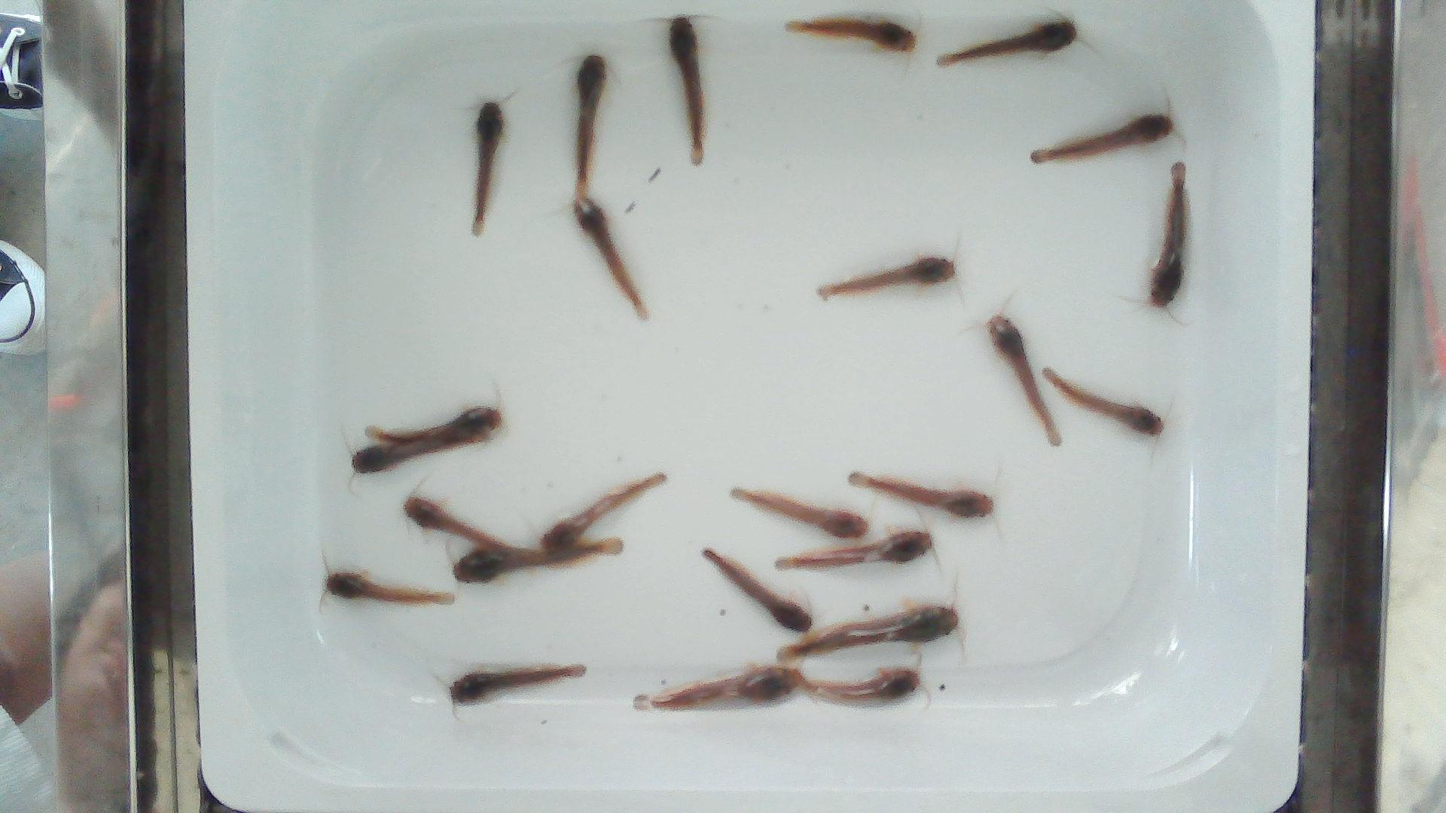lele: (987, 314, 1062, 446), (541, 473, 666, 552), (779, 605, 958, 658), (573, 198, 648, 320), (703, 548, 811, 632), (1042, 368, 1164, 437), (635, 665, 810, 710), (453, 538, 621, 583), (1030, 115, 1172, 163), (849, 472, 994, 518), (732, 489, 868, 538), (403, 497, 518, 553), (819, 256, 956, 299), (351, 433, 490, 474), (1149, 162, 1188, 307), (776, 534, 935, 569), (669, 17, 706, 166), (956, 17, 1078, 60), (449, 665, 586, 703), (786, 16, 918, 53), (368, 407, 504, 442), (324, 570, 455, 606), (471, 99, 505, 236), (576, 55, 606, 196), (803, 668, 920, 702)
